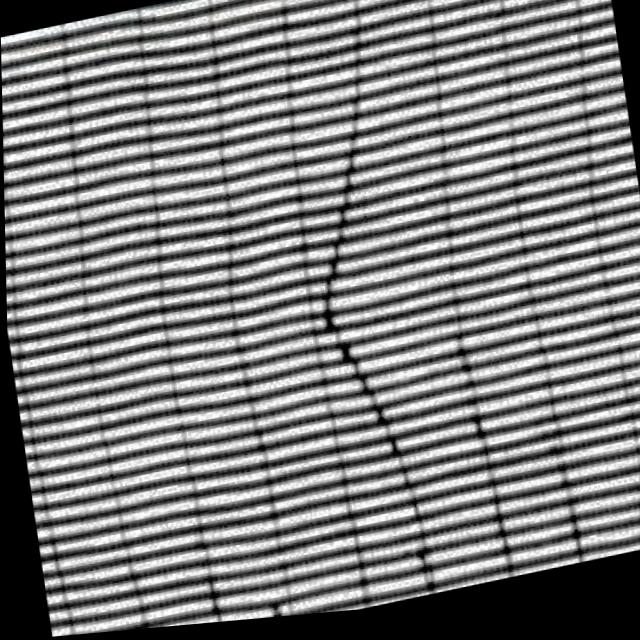Stitch: (260, 48, 440, 500)
